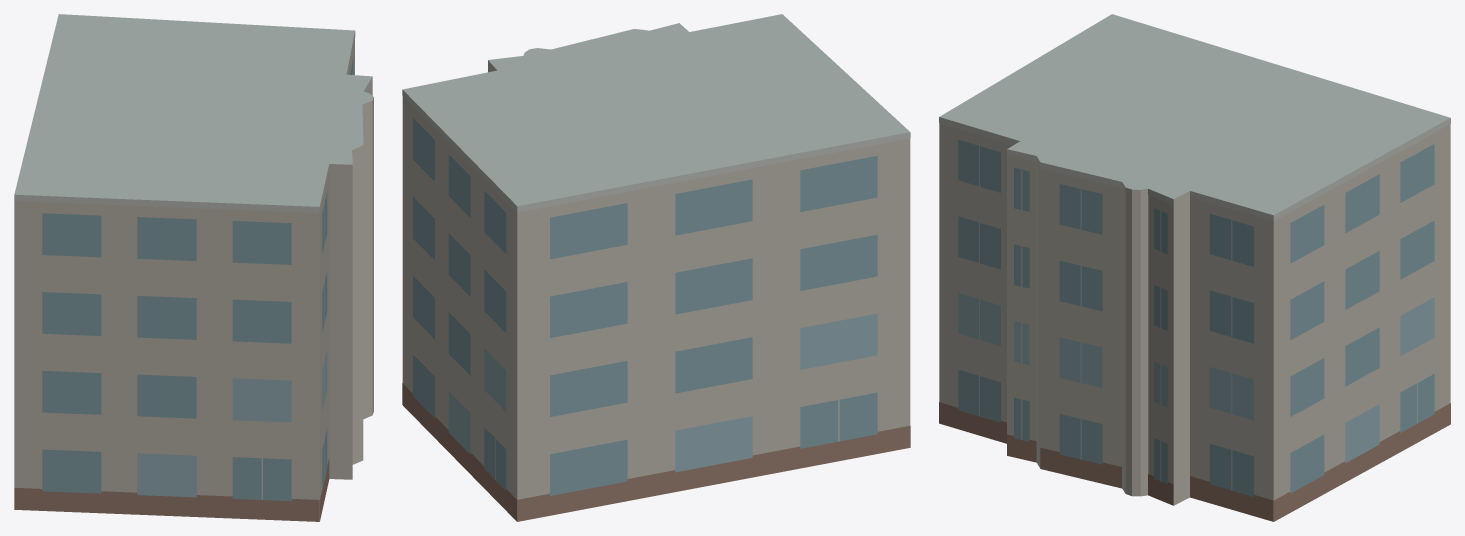
The model's file is survey-upis-32601480.glb.
The picture shows the model from 3 angles, left to right: view 1: azimuth 30°, elevation 25°; view 2: azimuth 150°, elevation 25°; view 3: azimuth 270°, elevation 25°; orthographic projection. The views are drawn at different scales.
Visible parts, largest first — view 1: survey-upis-32601480.tmp; view 2: survey-upis-32601480.tmp; view 3: survey-upis-32601480.tmp.
Part boxes in pixels (<box>): survey-upis-32601480.tmp: <box>14,14,373,521</box>; survey-upis-32601480.tmp: <box>402,14,910,521</box>; survey-upis-32601480.tmp: <box>939,14,1450,521</box>.
Bounding box in the file's own units: 17.4 × 12.35 × 18.68.
